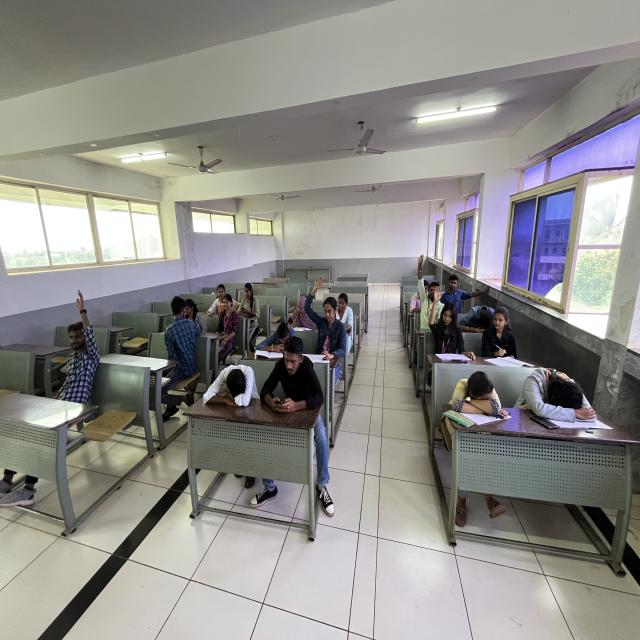Hand Rising: (54, 285, 112, 408), (301, 270, 345, 358), (413, 251, 443, 323), (429, 283, 460, 349)
Sleeping: (513, 364, 607, 431), (442, 365, 509, 421), (197, 360, 264, 415), (454, 299, 506, 339), (252, 323, 302, 356)
Using Phone: (257, 334, 325, 413), (237, 281, 259, 318)
Writing: (480, 305, 520, 363), (285, 294, 316, 333)
